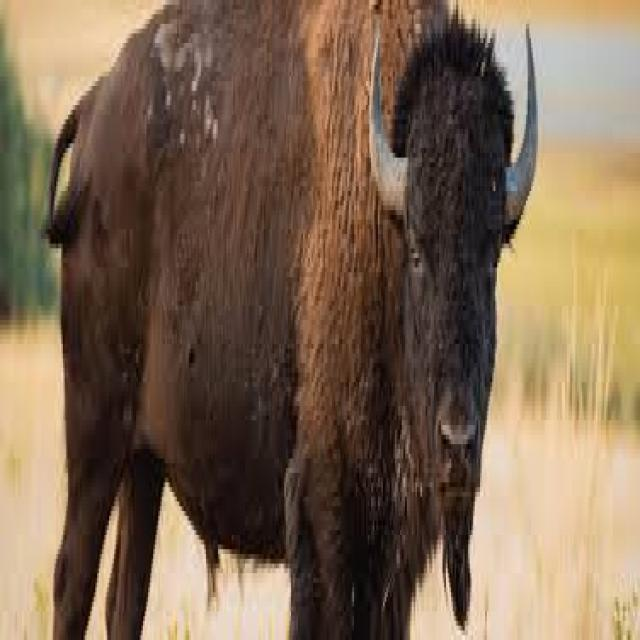Bison: (36, 3, 543, 640)
